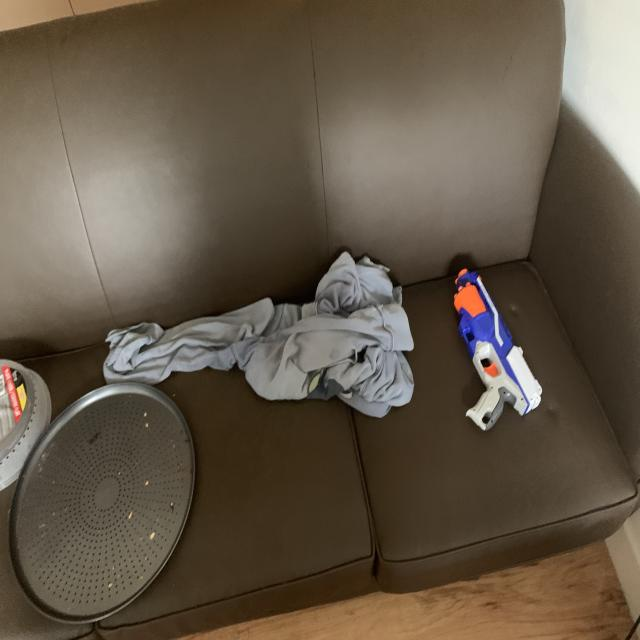nerf-maverik: (444, 260, 550, 448)
